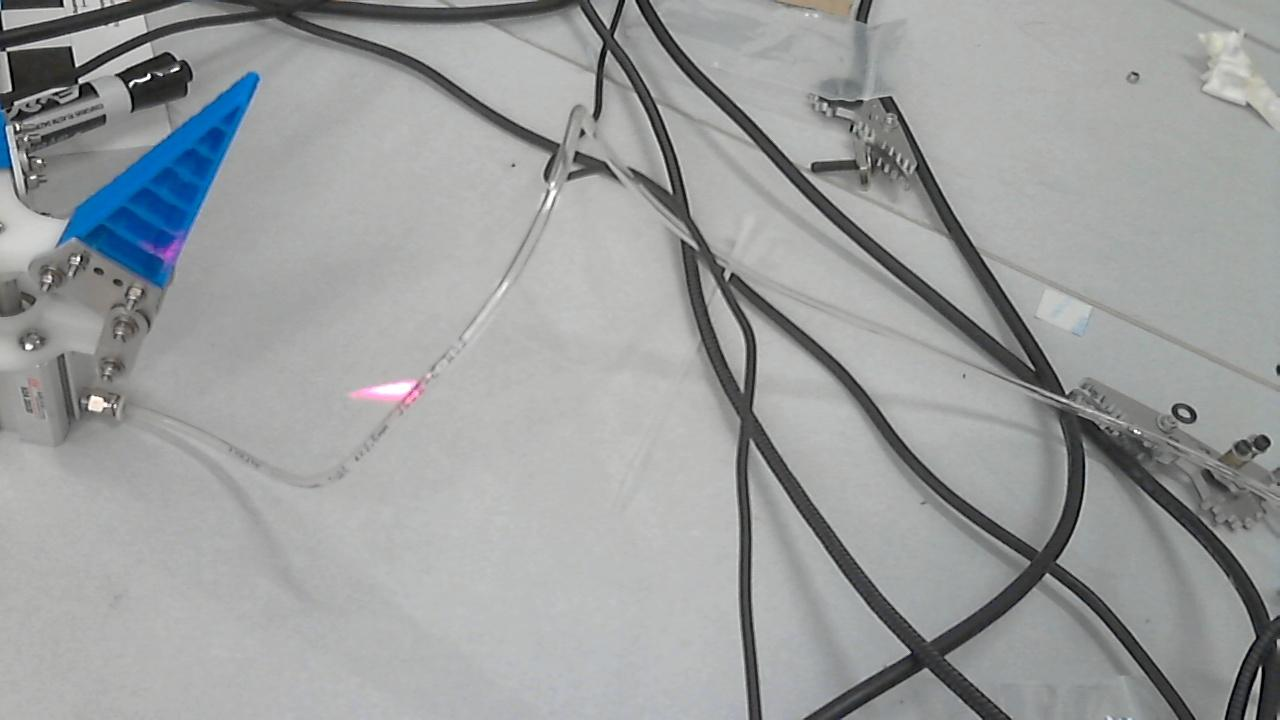Object robotic gripper finger assembly - Material plastic - Color blue - Pdfname: (123, 222, 210, 274)
